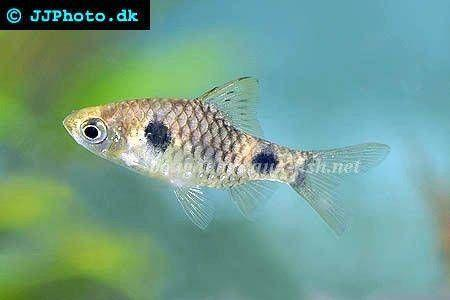Black Spotted Barb: (63, 72, 392, 242)
